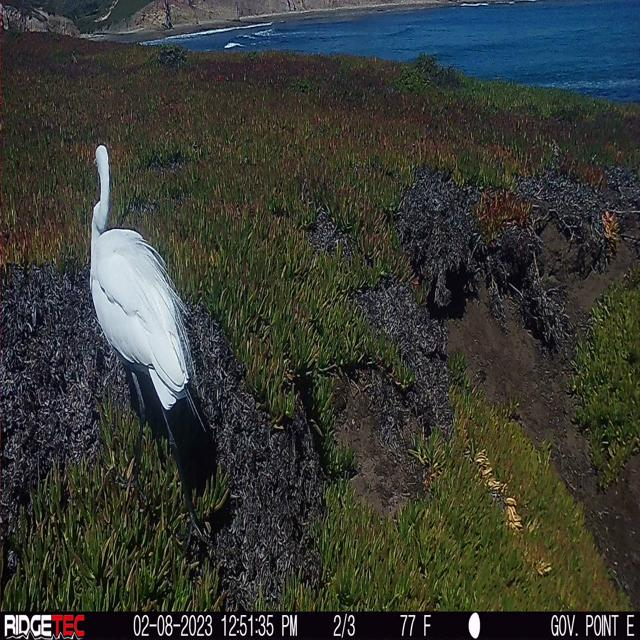bird: (89, 144, 214, 542)
